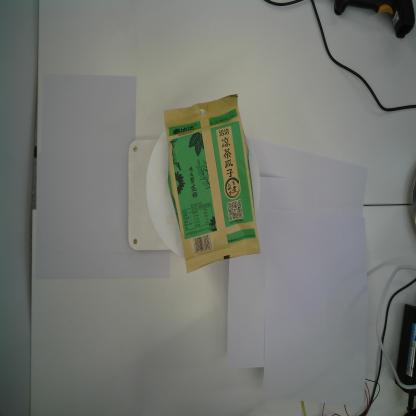Dried Food: (164, 91, 262, 276)
